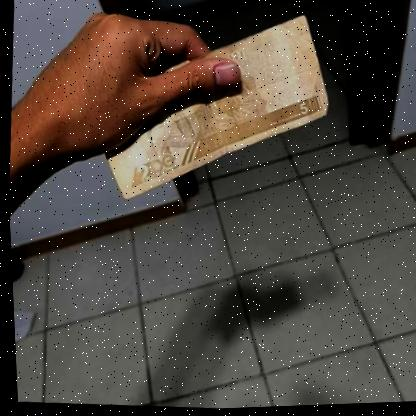five-back-vef: (97, 1, 337, 215)
